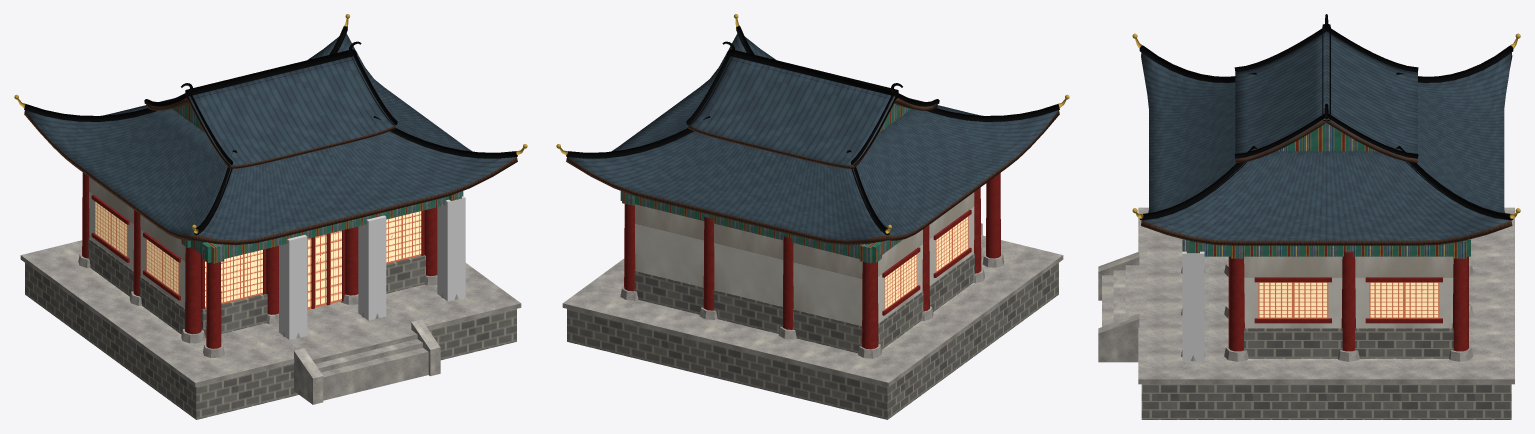
The model's file is sect_cottage.glb.
The picture shows the model from 3 angles, left to right: view 1: azimuth 30°, elevation 25°; view 2: azimuth 150°, elevation 25°; view 3: azimuth 270°, elevation 25°; orthographic projection. The views are drawn at different scales.
Parts seen in each view (by area): view 1: CottageLowerRoof, CottagePodiumCap, CottageGable, CottagePodiumBase, CottageLattice, CottageColumns, CottageDado, CottageStairsfront, CottageVCol-convcolonly.002, CottageVCol-convcolonly.001, CottageWalls, CottageVCol-convcolonly.003 (+6 smaller); view 2: CottageLowerRoof, CottageWalls, CottagePodiumCap, CottagePodiumBase, CottageGable, CottageDado, CottageColumns, CottageBeams, CottageGableRidge, CottageLowerRoofRidges, CottageLattice, CottageColumnBases (+1 smaller); view 3: CottageLowerRoof, CottagePodiumCap, CottageGable, CottagePodiumBase, CottageWalls, CottageDado, CottageLattice, CottageColumns, CottageBeams, CottageLowerRoofRidges, CottageGableRidge, CottageVCol-convcolonly.003 (+5 smaller).
Part boxes in pixels (x1=…): CottageLowerRoof: x1=24, y1=31, x2=517, y2=245; CottagePodiumCap: x1=20, y1=240, x2=521, y2=387; CottageGable: x1=146, y1=56, x2=395, y2=168; CottagePodiumBase: x1=25, y1=263, x2=516, y2=419; CottageLattice: x1=95, y1=201, x2=421, y2=309; CottageColumns: x1=82, y1=172, x2=437, y2=348; CottageDado: x1=88, y1=238, x2=425, y2=337; CottageStairsfront: x1=309, y1=330, x2=428, y2=400; CottageVCol-convcolonly.002: x1=358, y1=215, x2=386, y2=320; CottageVCol-convcolonly.001: x1=279, y1=235, x2=307, y2=339; CottageWalls: x1=89, y1=177, x2=185, y2=308; CottageVCol-convcolonly.003: x1=437, y1=196, x2=465, y2=301; CottageLowerRoof: x1=566, y1=31, x2=1059, y2=245; CottageWalls: x1=634, y1=192, x2=974, y2=325; CottagePodiumCap: x1=562, y1=235, x2=1063, y2=387; CottagePodiumBase: x1=567, y1=263, x2=1058, y2=419; CottageGable: x1=688, y1=56, x2=937, y2=168; CottageDado: x1=634, y1=253, x2=974, y2=353; CottageColumns: x1=624, y1=173, x2=1000, y2=349; CottageBeams: x1=620, y1=191, x2=902, y2=263; CottageGableRidge: x1=686, y1=41, x2=939, y2=165; CottageLowerRoofRidges: x1=566, y1=26, x2=1059, y2=235; CottageLattice: x1=884, y1=216, x2=968, y2=309; CottageColumnBases: x1=620, y1=253, x2=1004, y2=358; CottageLowerRoof: x1=1141, y1=52, x2=1512, y2=245; CottagePodiumCap: x1=1138, y1=207, x2=1514, y2=384; CottageGable: x1=1235, y1=31, x2=1417, y2=163; CottagePodiumBase: x1=1141, y1=384, x2=1511, y2=419; CottageWalls: x1=1244, y1=256, x2=1453, y2=328; CottageDado: x1=1244, y1=328, x2=1453, y2=358; CottageLattice: x1=1258, y1=282, x2=1439, y2=318; CottageColumns: x1=1228, y1=251, x2=1468, y2=351; CottageBeams: x1=1182, y1=239, x2=1470, y2=258; CottageLowerRoofRidges: x1=1139, y1=45, x2=1513, y2=220; CottageGableRidge: x1=1234, y1=14, x2=1418, y2=158; CottageVCol-convcolonly.003: x1=1182, y1=251, x2=1204, y2=360.
Size of what is drawn, in the model's own units: 11.28 by 8.22 by 11.41.
10 materials, 10 textured.
